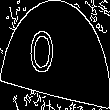O_S: (41, 26, 69, 84)
